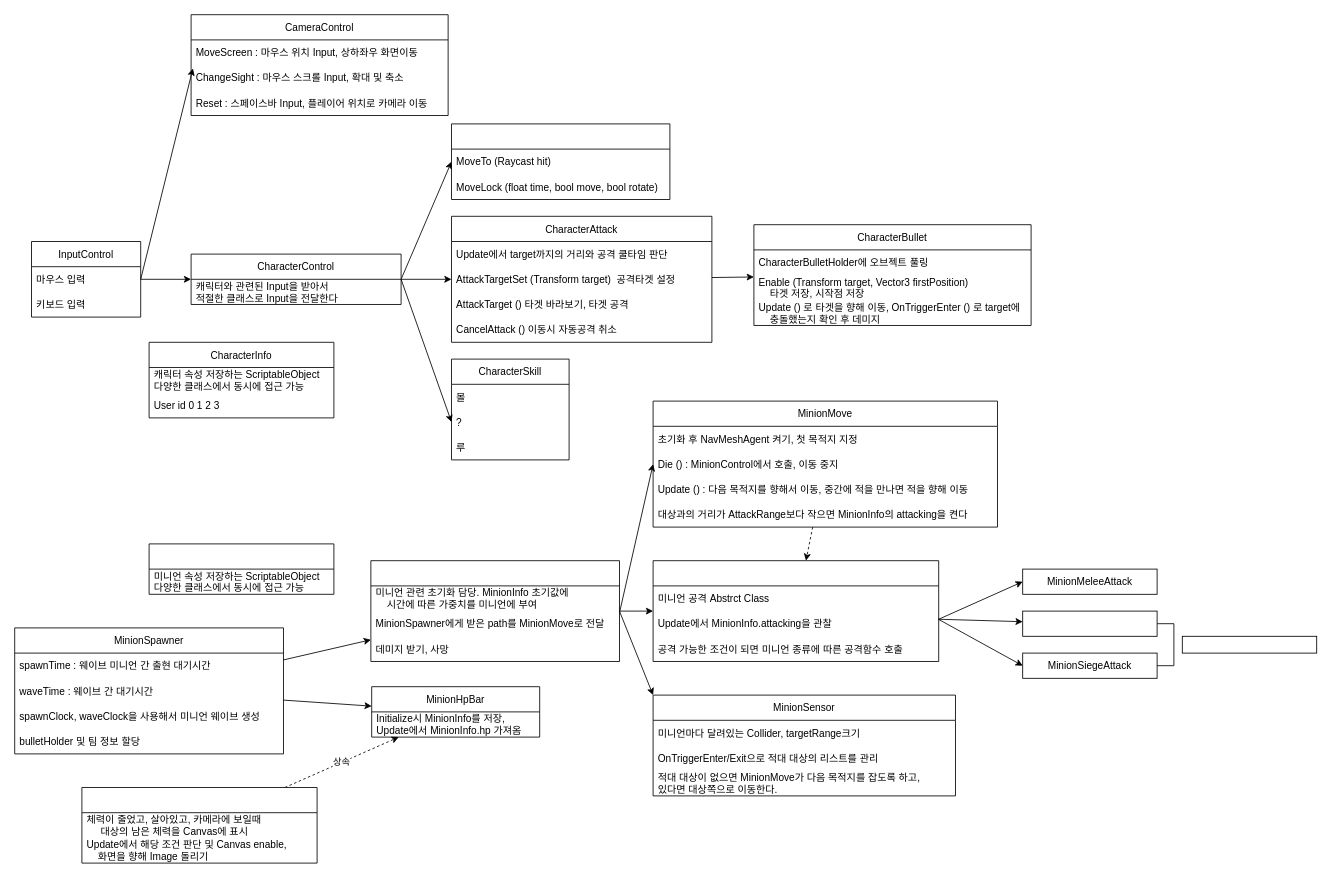
Image size: 1331x878. Some labels were removed from this diagram. The shapes that lost their labels are listed below. From the top down, each one's box as (x1, y1, x2, y2) in pixels, then its label:
(451, 123, 670, 200): CharacterMove
(148, 543, 334, 594): MinionInfo
(370, 560, 620, 662): MinionControl
(652, 560, 939, 662): MinionAttack
(1022, 610, 1157, 636): MinionCasterAttack
(1181, 635, 1317, 653): 오브젝트 풀링된 총알 사용
(81, 787, 317, 863): EnemyHpBar
